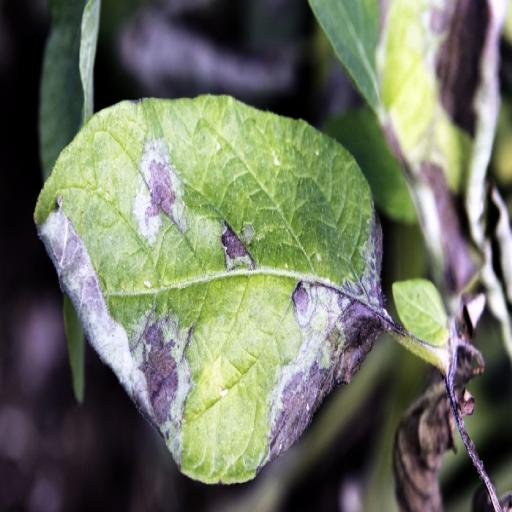disease_tomato: (30, 92, 390, 486)
